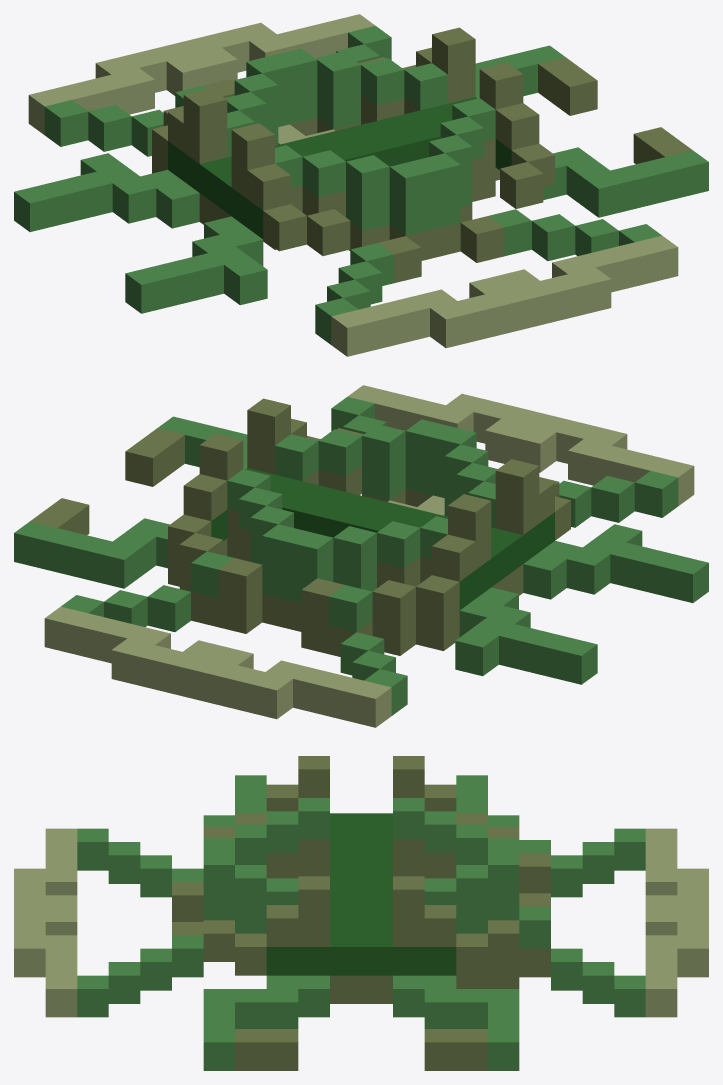
The model's file is spaceship5.obj.
The picture shows the model from 3 angles, top to bottom: view 1: azimuth 30°, elevation 25°; view 2: azimuth 150°, elevation 25°; view 3: azimuth 270°, elevation 25°; orthographic projection.
Size of the model in its own units: 20 by 4 by 22.
1 material, 1 textured.
